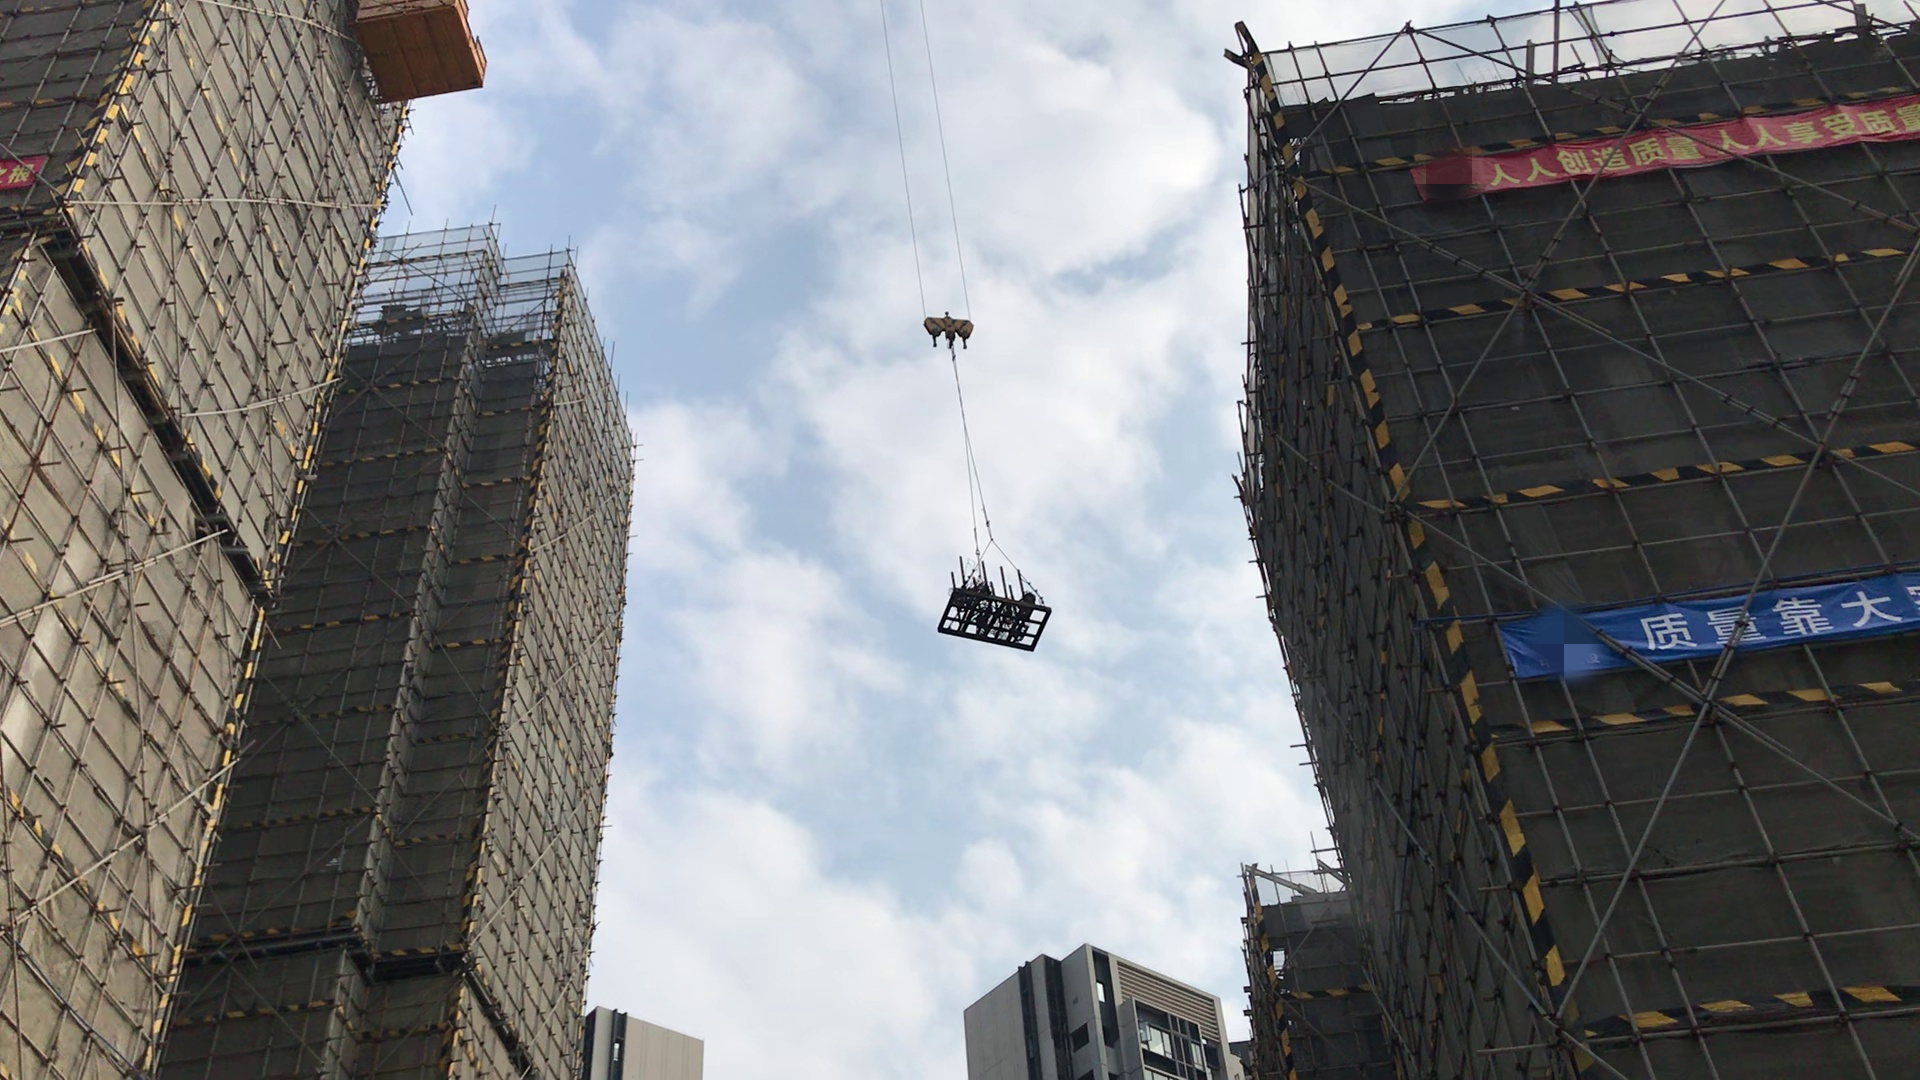hook: (913, 293, 985, 353)
slogan: (1425, 117, 1920, 200), (1509, 582, 1920, 658)
